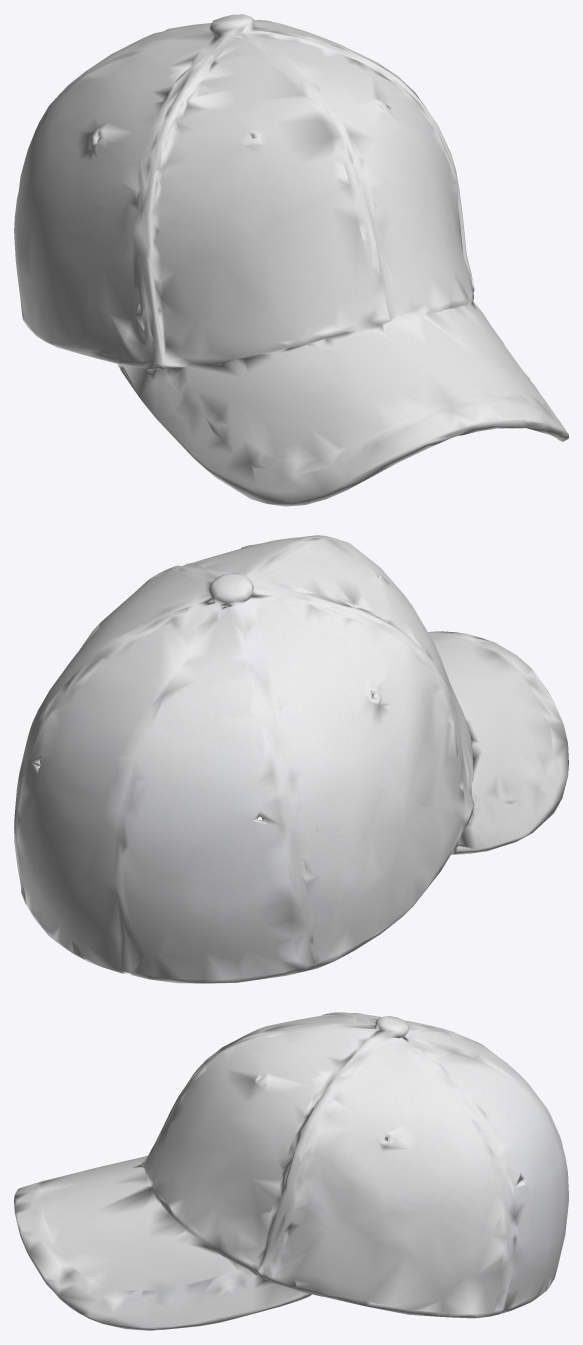
File: cap.glb
3 renders of one model, top to bottom at view 1: azimuth 30°, elevation 25°; view 2: azimuth 150°, elevation 25°; view 3: azimuth 270°, elevation 25°, orthographic. The views are drawn at different scales.
Size of the model in its own units: 1.12 by 0.9601 by 1.9.
1 material, 1 textured.
